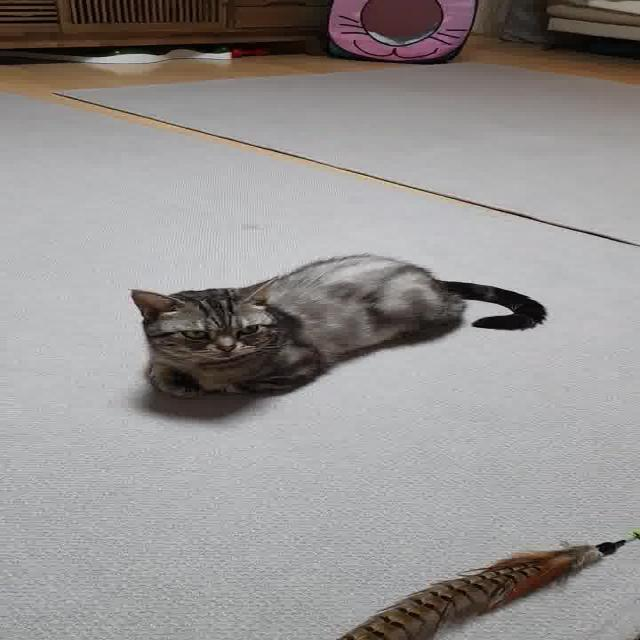cat: (95, 247, 579, 425)
